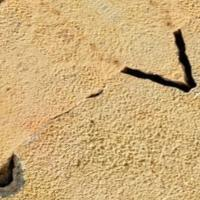crack: (0, 30, 195, 199)
